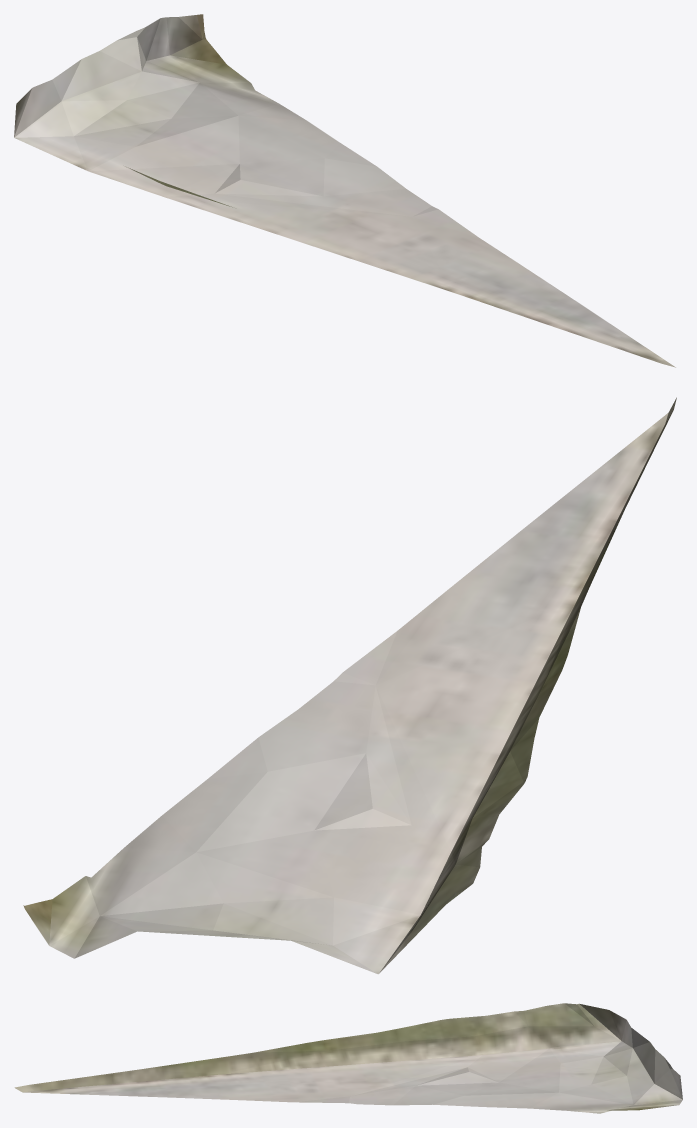
3 views of the same model, one above another, from view 1: azimuth 30°, elevation 25°; view 2: azimuth 150°, elevation 25°; view 3: azimuth 270°, elevation 25° (orthographic). The views are drawn at different scales.
Size of the model in its own units: 5.64 by 0.9049 by 18.88.
1 material, 1 textured.
